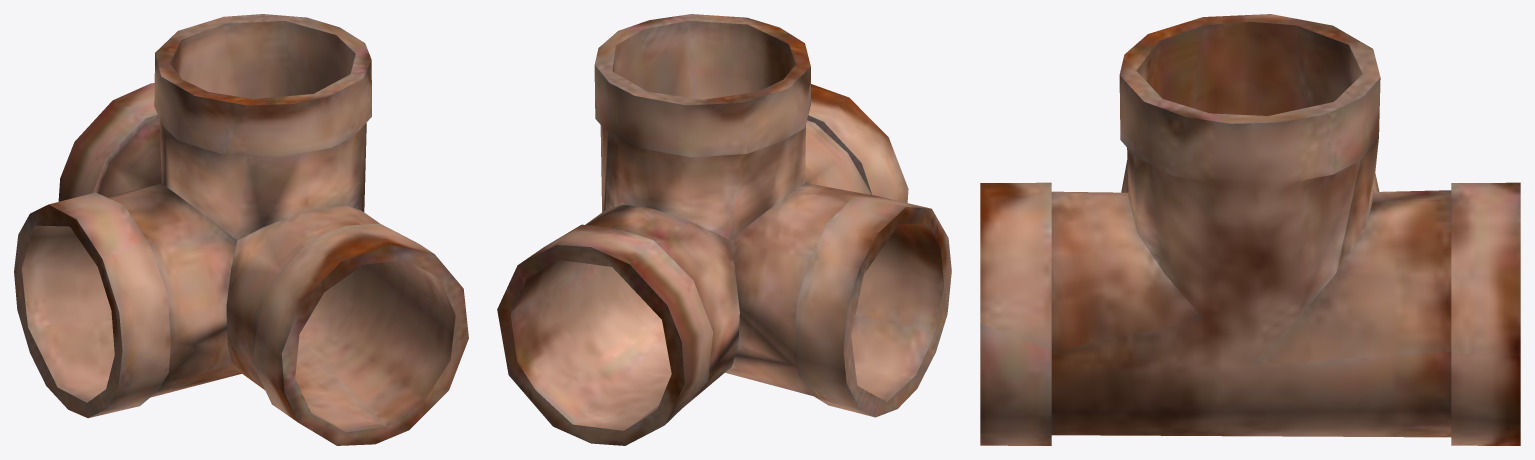
Rendered from small_copper_pipe_15.glb.
The picture shows the model from 3 angles, left to right: view 1: azimuth 30°, elevation 25°; view 2: azimuth 150°, elevation 25°; view 3: azimuth 270°, elevation 25°; orthographic projection. The views are drawn at different scales.
Parts seen in each view (by area): view 1: small_copper_pipe_15; view 2: small_copper_pipe_15; view 3: small_copper_pipe_15.
Part boxes in pixels (left/top/right/bottom): small_copper_pipe_15: left=14, top=14, right=468, bottom=445; small_copper_pipe_15: left=497, top=14, right=951, bottom=445; small_copper_pipe_15: left=980, top=14, right=1520, bottom=445.
Size of what is drawn, in the model's own units: 0.0331 by 0.033 by 0.0444.
Materials: 1 (1 with a texture image).
